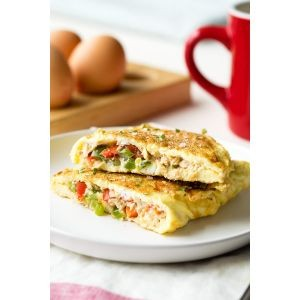tuna_brain food: (56, 123, 235, 235)
